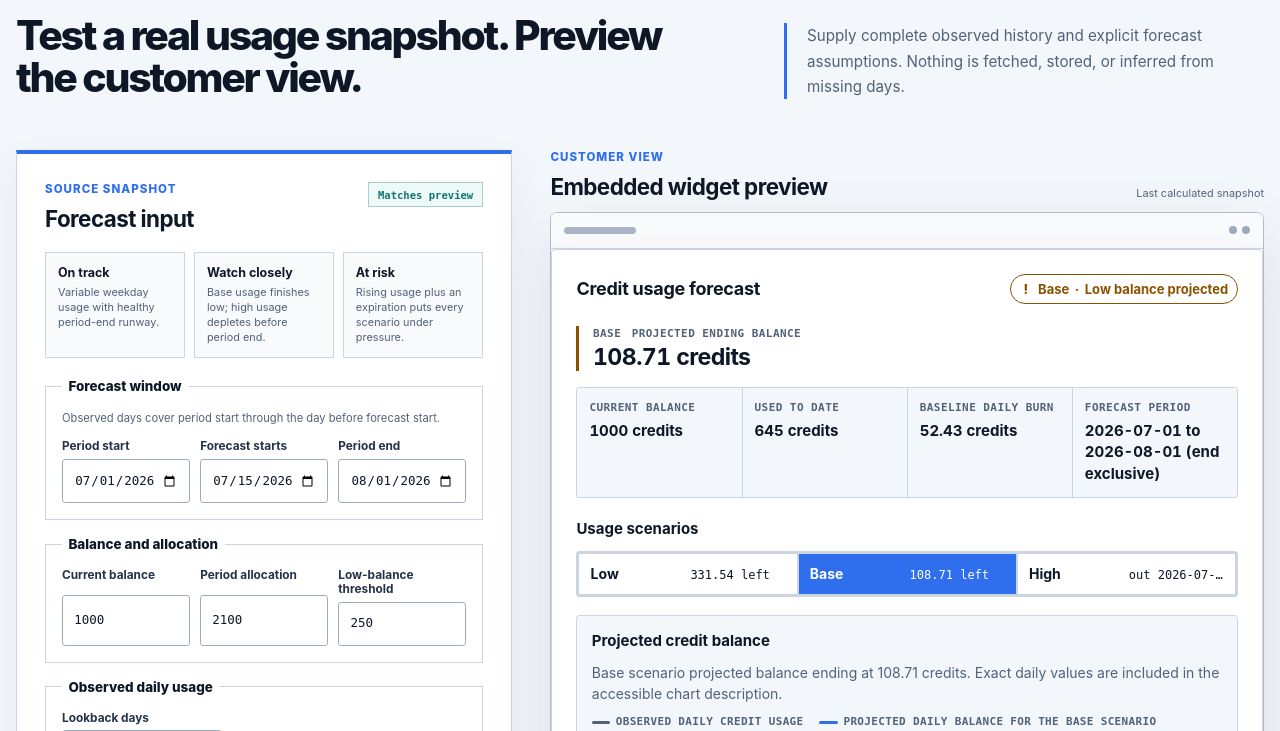
reference demo › loads a complete risk preset without calculating until requested
Step 1. Click the button "At risk" → (413, 305), box [343, 252, 483, 358]
(page scrolled)
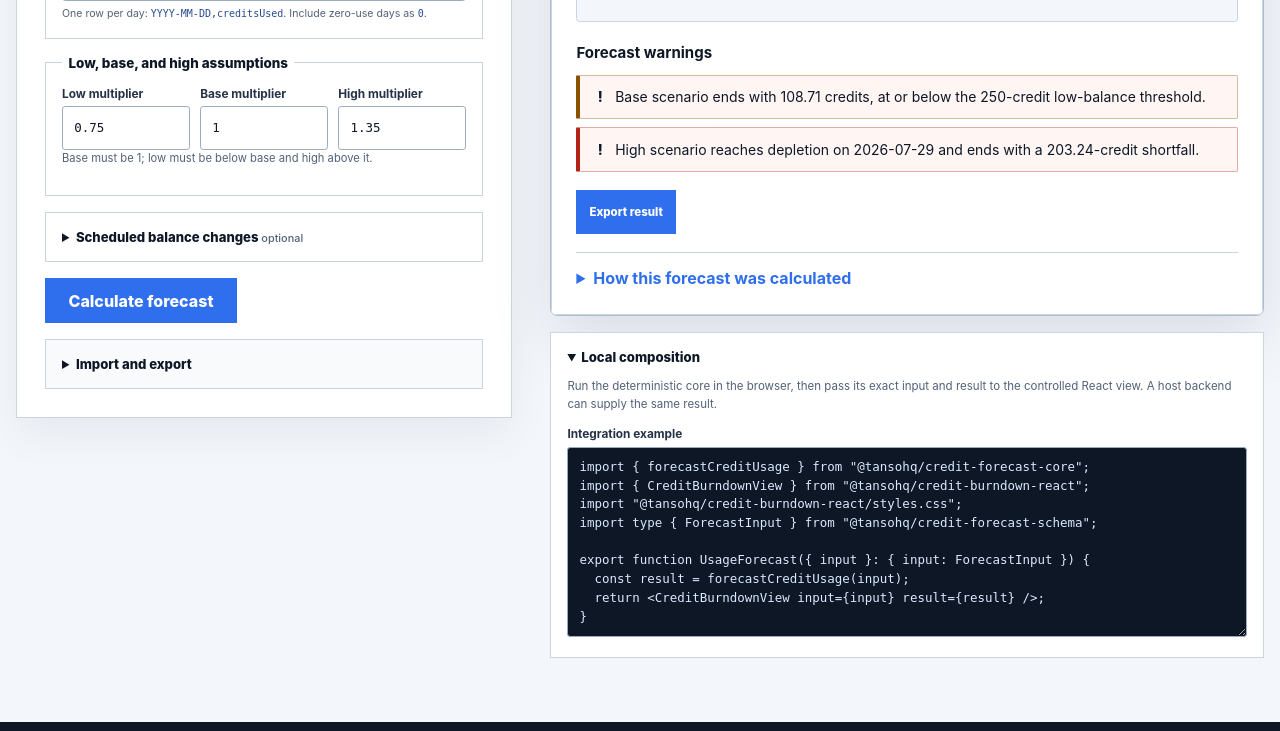
Step 2. Click the button "Calculate forecast" → (141, 301), box [45, 278, 237, 323]
(page scrolled)
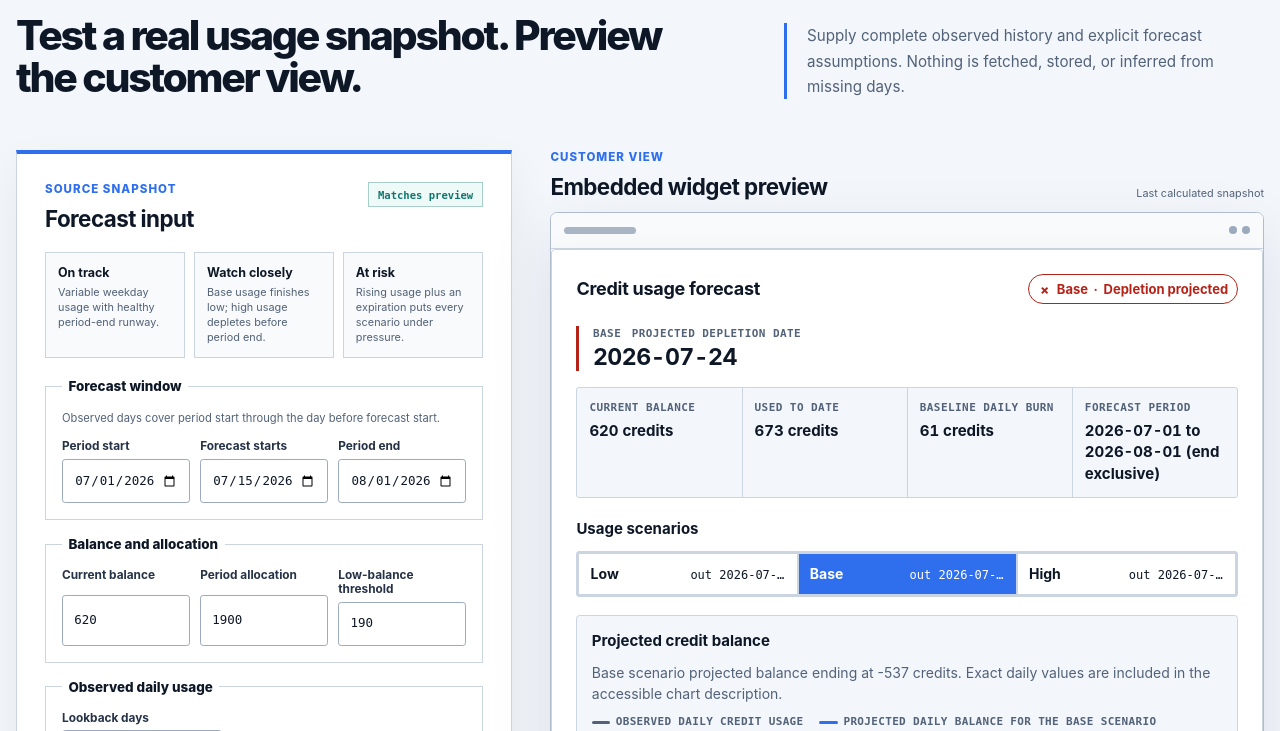
Expected: the text "Depletion projected" is shown, [1104, 280, 1228, 298]
